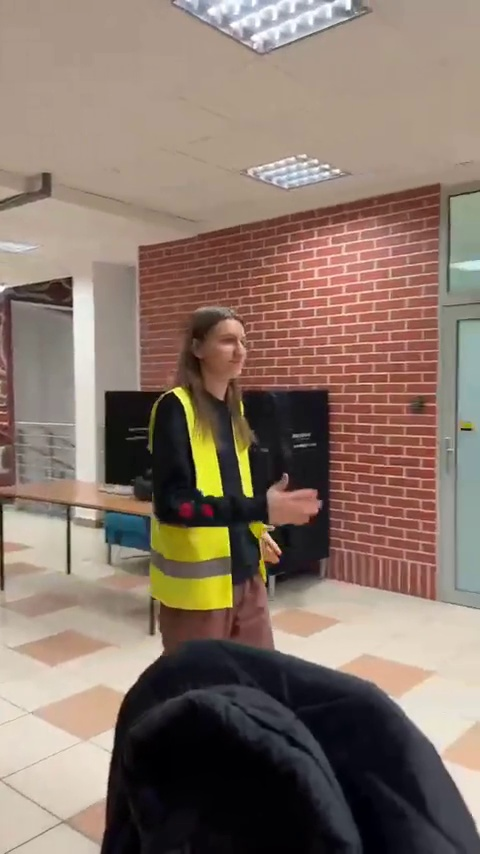vest: (144, 304, 298, 658)
